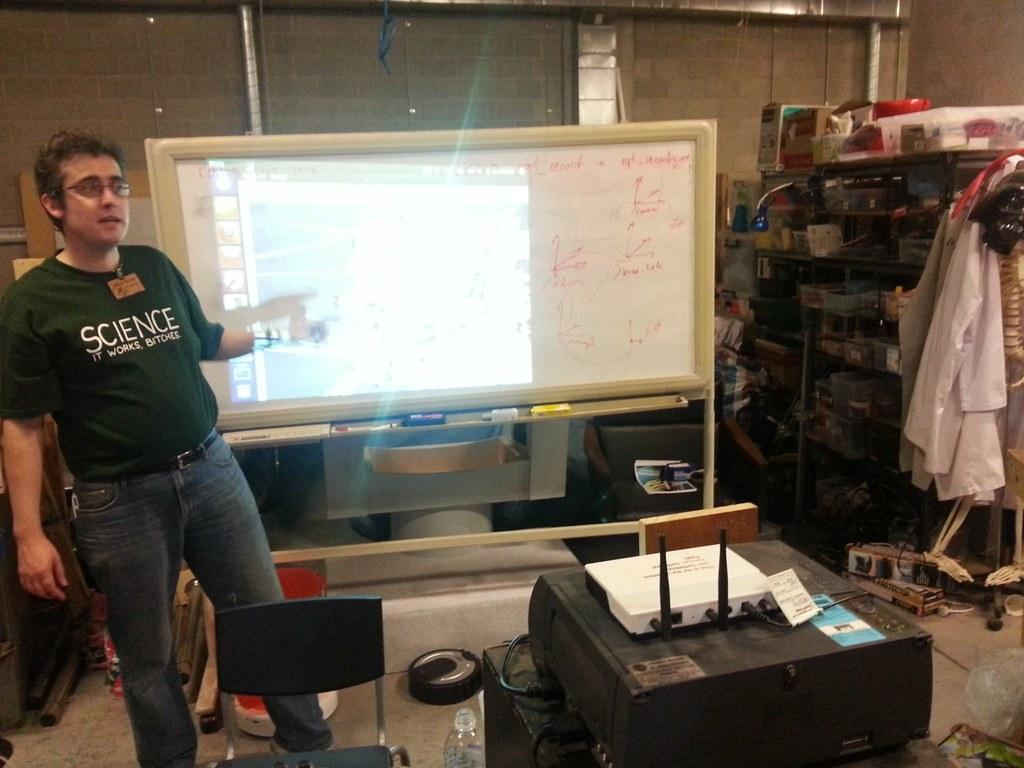Chair: (182, 582, 394, 752), (580, 376, 769, 541)
